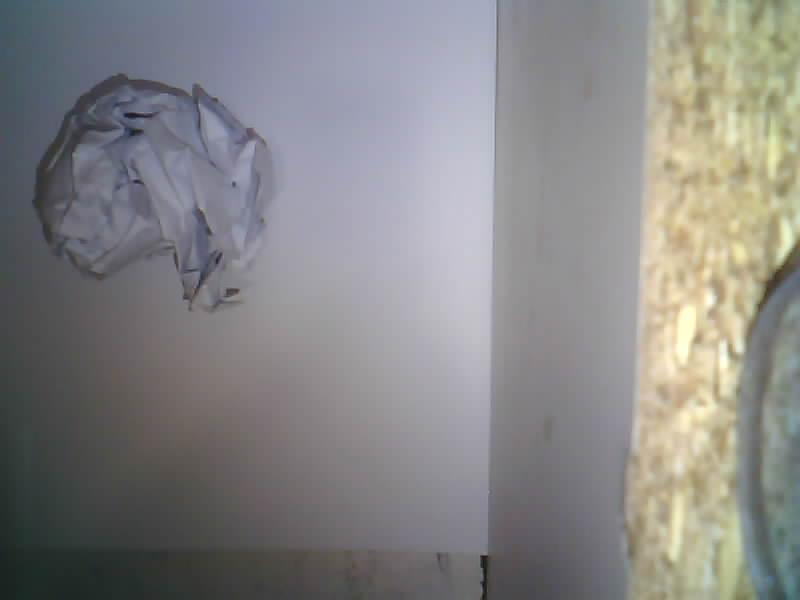biodegradable: (34, 77, 273, 311)
